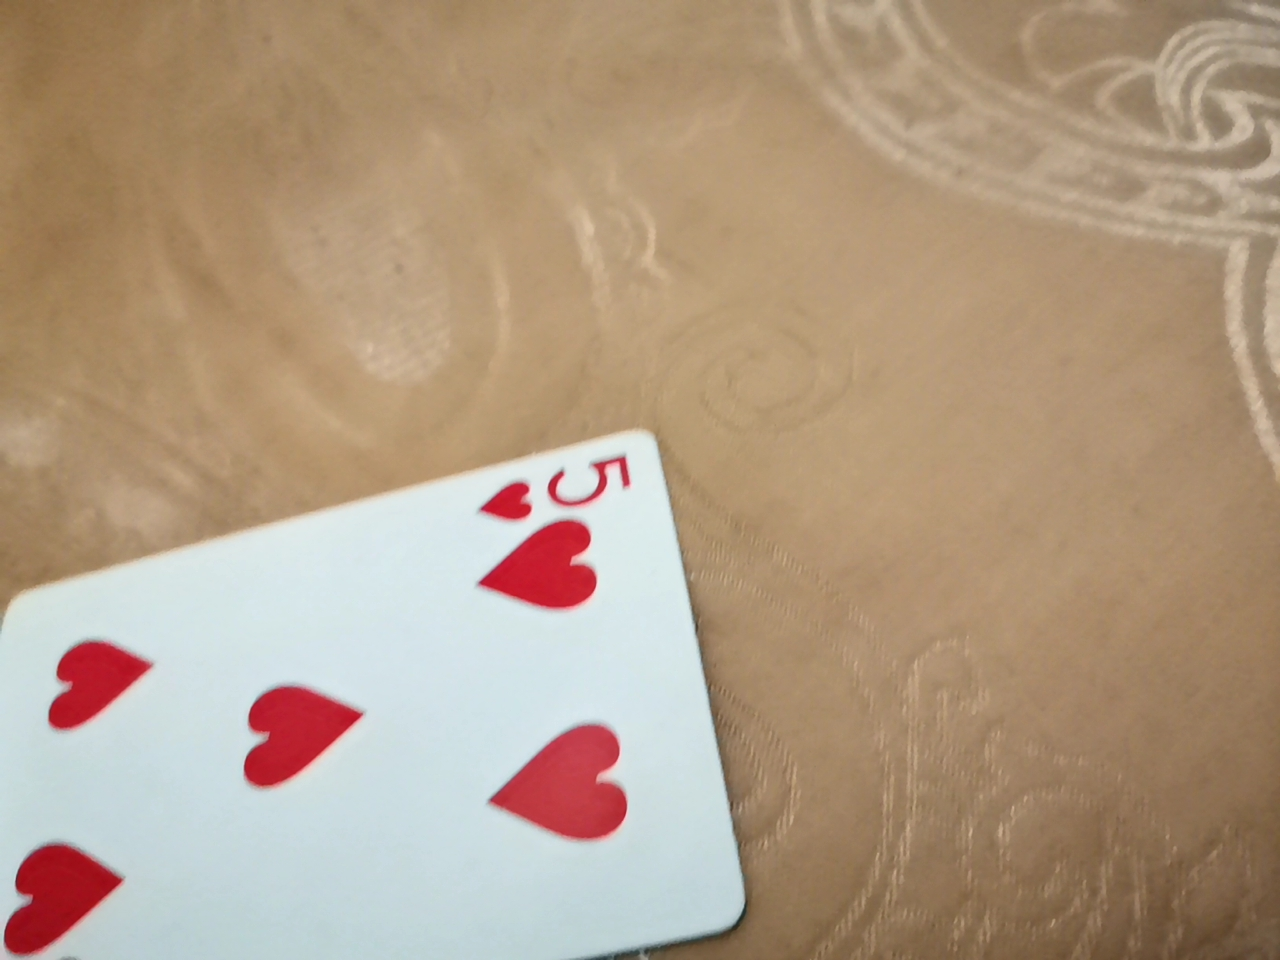hx 5: (2, 479, 721, 957)
